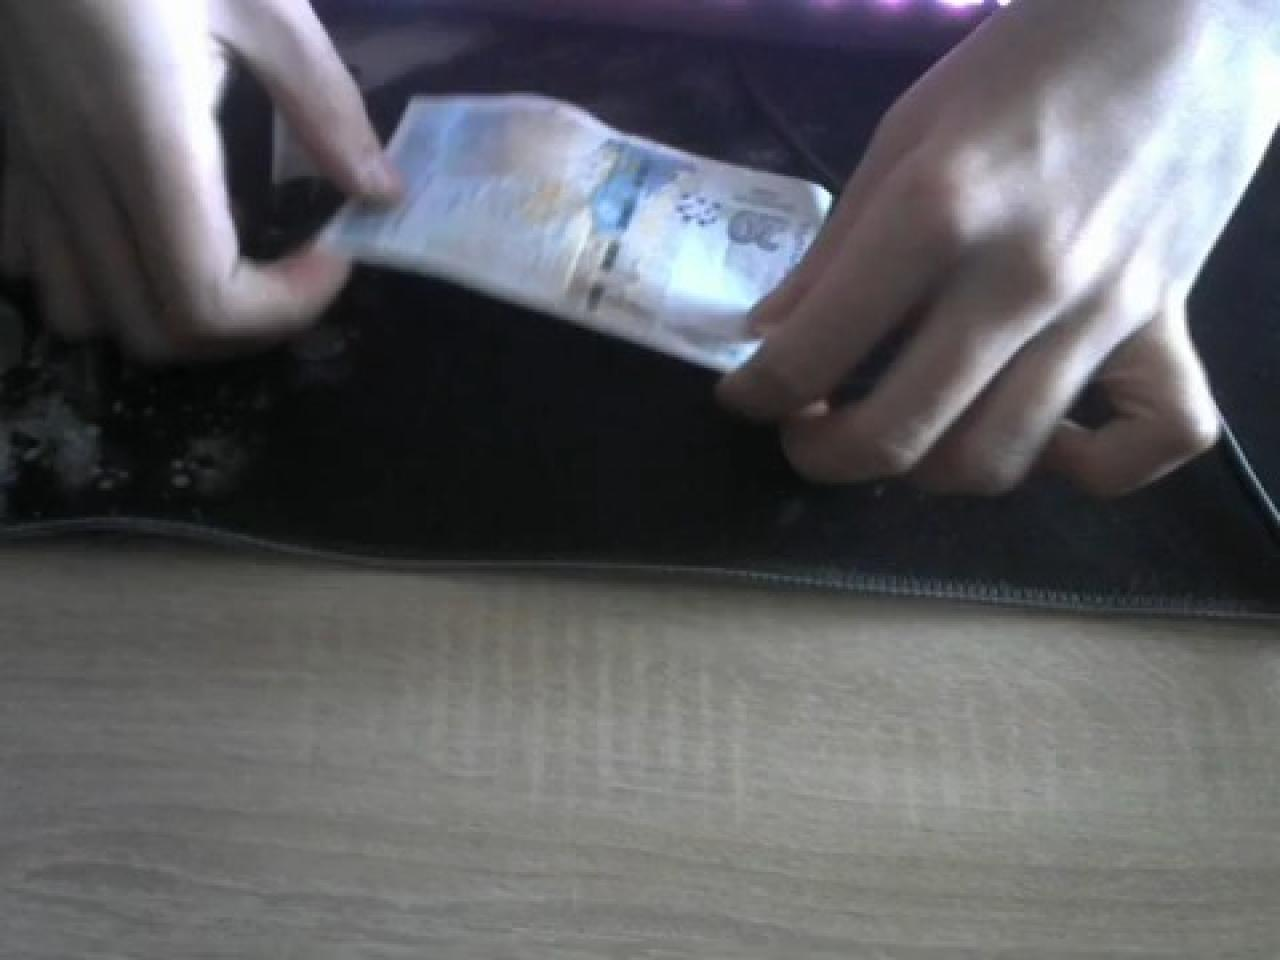20leva: (326, 94, 835, 376)
